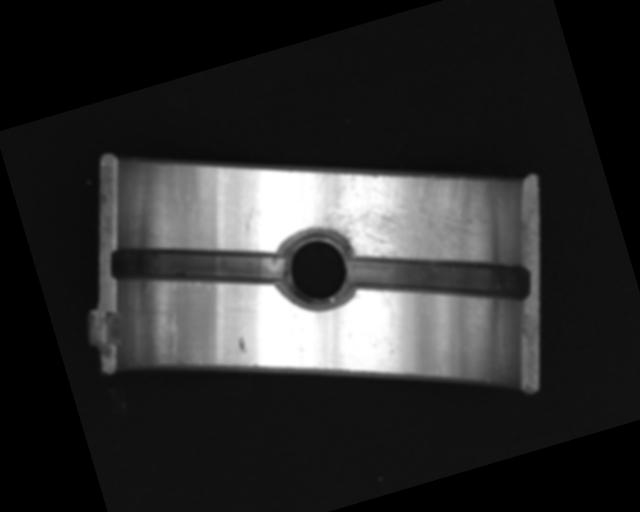bruise: (234, 334, 248, 354)
gap: (347, 214, 533, 345), (106, 204, 288, 323)
hole: (265, 218, 367, 322)
nick: (232, 204, 266, 250), (159, 311, 190, 361)
scratch: (290, 122, 500, 303)
